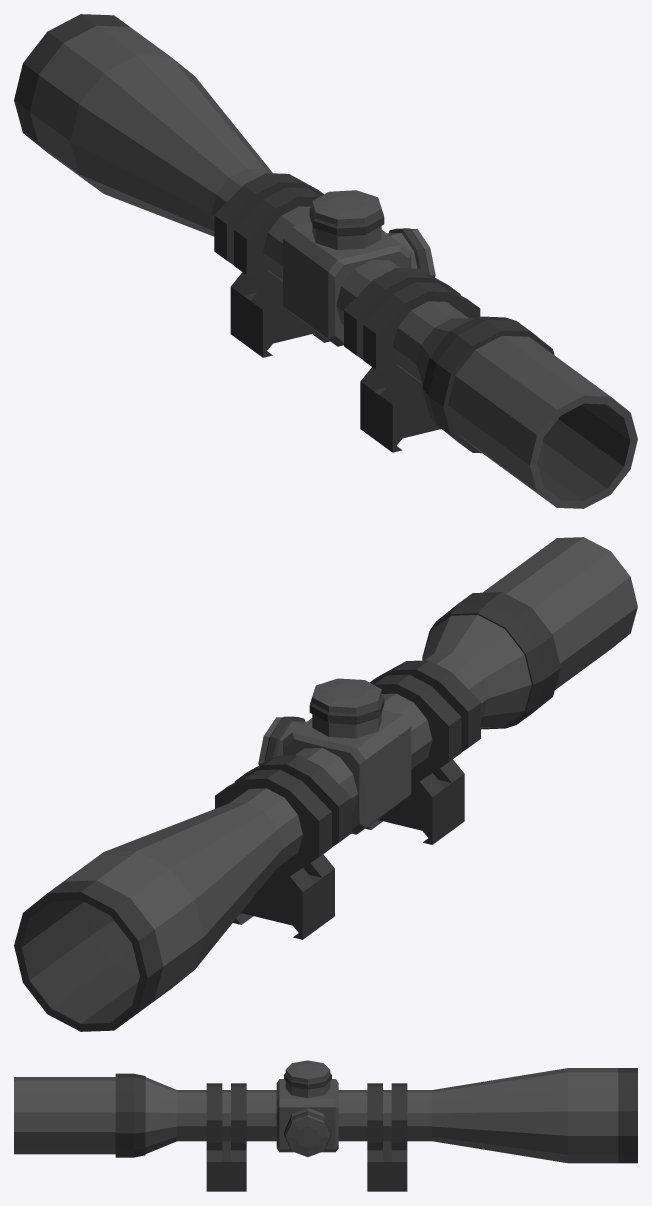
The model's file is luneta.glb.
The picture shows the model from 3 angles, top to bottom: view 1: azimuth 30°, elevation 25°; view 2: azimuth 150°, elevation 25°; view 3: azimuth 270°, elevation 25°; orthographic projection. The views are drawn at different scales.
Visible parts, largest first — view 1: Optic_02_Black; view 2: Optic_02_Black; view 3: Optic_02_Black.
Part boxes in pixels (left/top/right/bottom): Optic_02_Black: left=14, top=14, right=637, bottom=508; Optic_02_Black: left=14, top=537, right=637, bottom=1031; Optic_02_Black: left=14, top=1060, right=637, bottom=1191.
Size of the model in its own units: 0.0499 by 0.0621 by 0.3136.
Materials: 1 (1 with a texture image).
